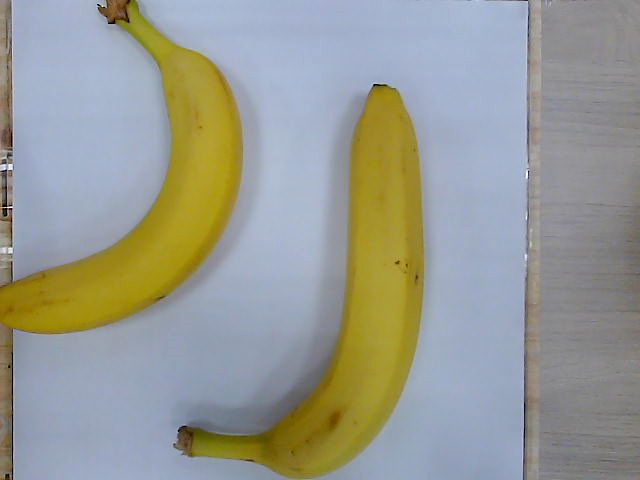fresh_banana: (177, 83, 426, 480), (1, 1, 241, 333)
